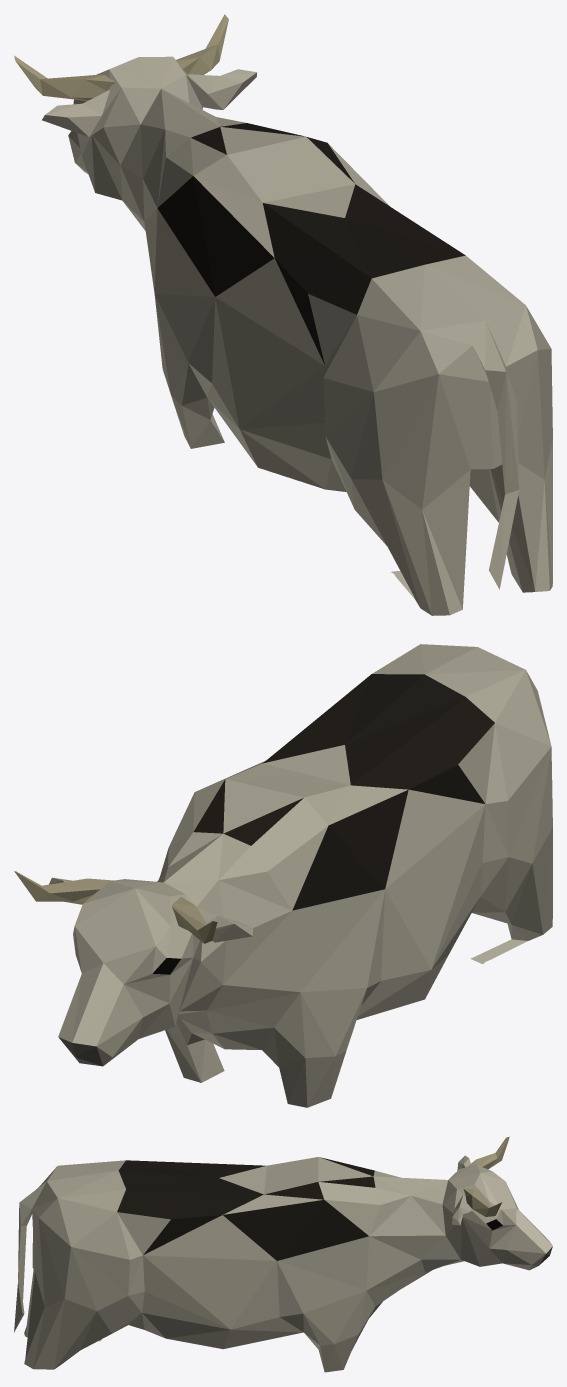
The model's file is cow-resting.glb.
3 views of the same model, one above another, from view 1: azimuth 30°, elevation 25°; view 2: azimuth 150°, elevation 25°; view 3: azimuth 270°, elevation 25° (orthographic). The views are drawn at different scales.
Parts seen in each view (by area): view 1: cow-resting; view 2: cow-resting; view 3: cow-resting.
Boxes of the visible parts, x1=… form: cow-resting: x1=14, y1=14, x2=552, y2=615; cow-resting: x1=14, y1=644, x2=552, y2=1107; cow-resting: x1=14, y1=1136, x2=552, y2=1372.
Bounding box in the file's own units: 4.05 × 5.35 × 14.2.
